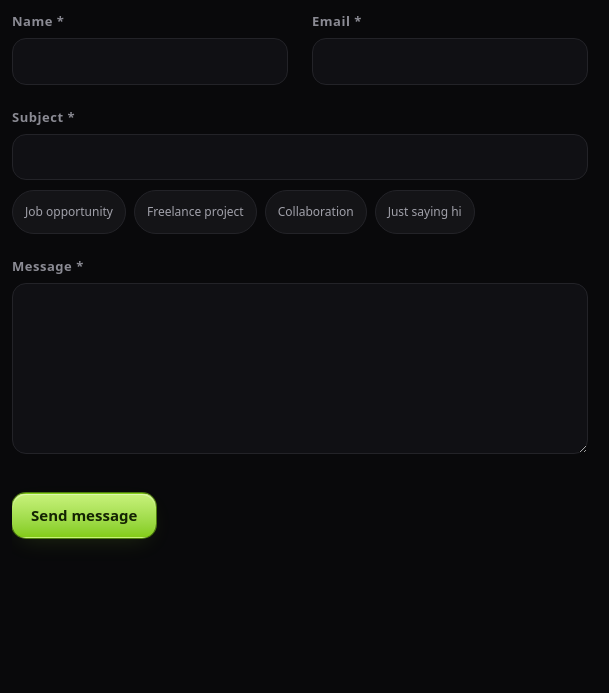
Test case: ContactForm › preserves typed values and offers an email fallback on failure
The width and height of the screenshot is (609, 693).
Type "Jane Doe" into the field labelled "Name *" at (150, 61), box [12, 38, 288, 85]
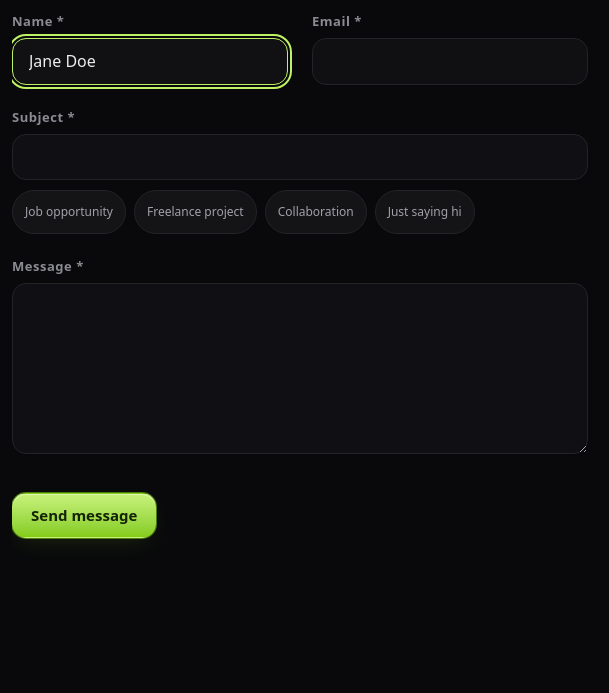
Type "jane@example.com" into the field labelled "Email *" at (450, 61), box [312, 38, 588, 85]
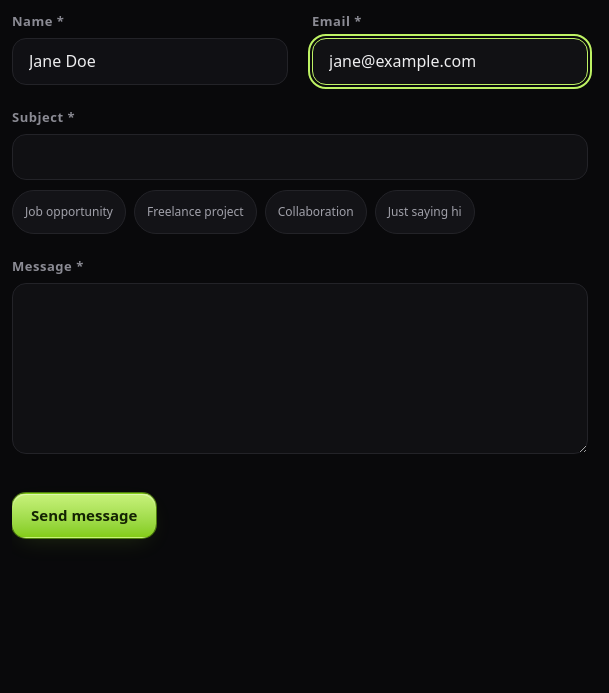
Type "Project inquiry" into the field labelled "Subject *" at (300, 157), box [12, 134, 588, 180]
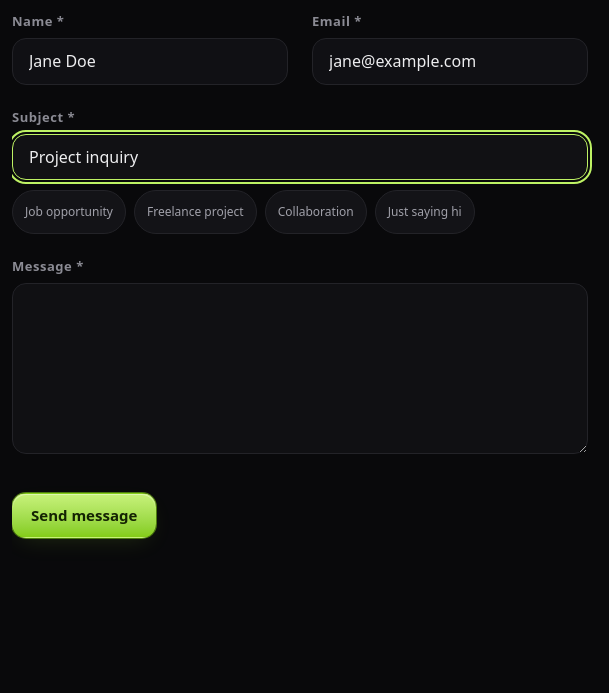
Type "I would love to discuss a frontend role with you." into the text box labelled "Message *" at (300, 369), box [12, 283, 588, 454]
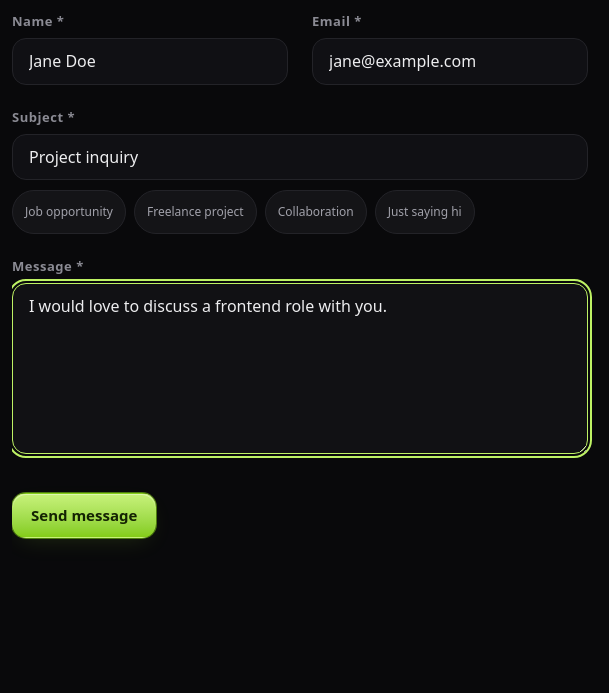
Click the button "Send message" at (84, 515), box [12, 493, 156, 538]
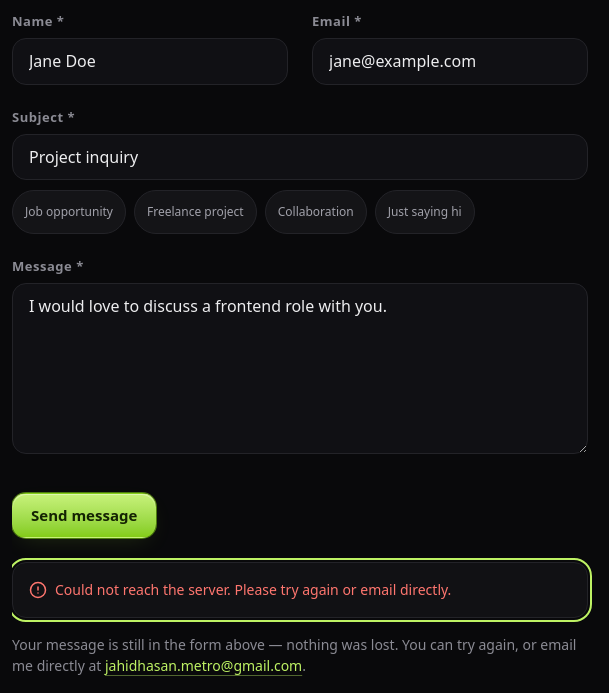
Expected: the message shows "Could not reach the server", [55, 580, 451, 599]
